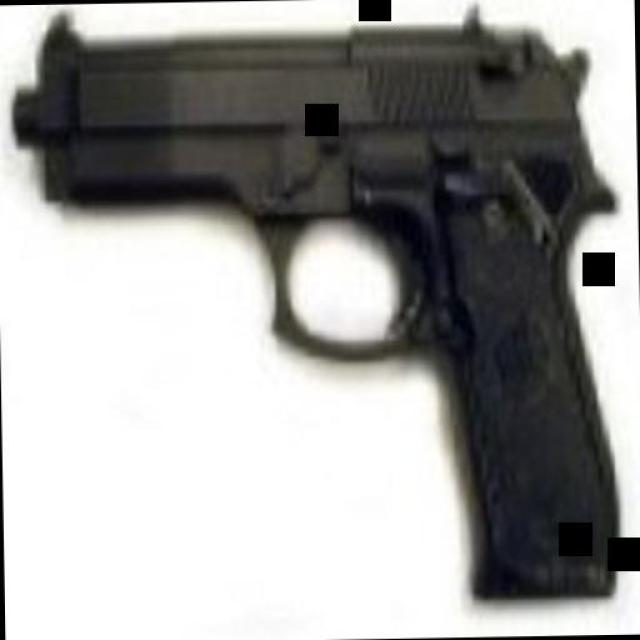gun: (9, 0, 624, 606)
